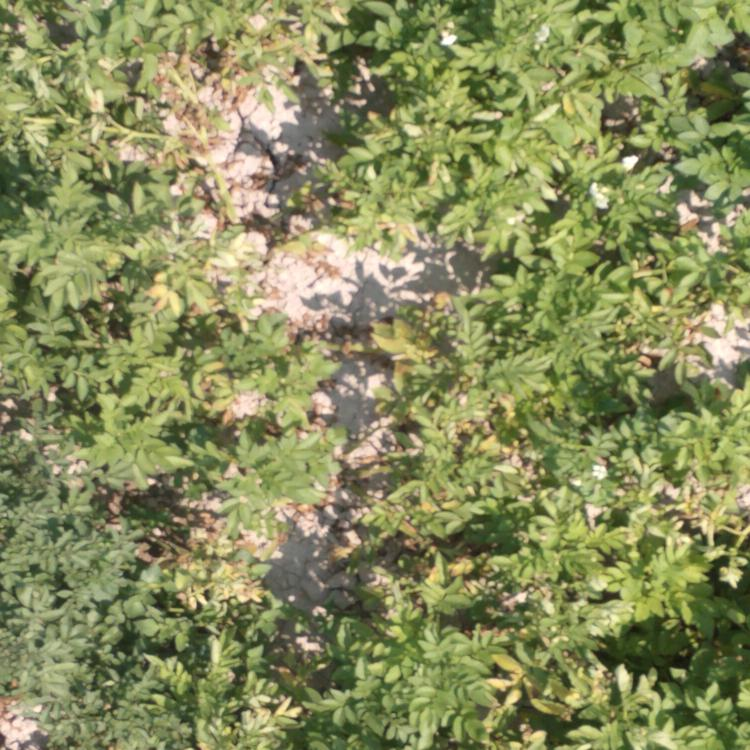healthy: (336, 265, 750, 733), (8, 311, 314, 750), (343, 1, 746, 237), (6, 114, 237, 299), (15, 1, 325, 103)
